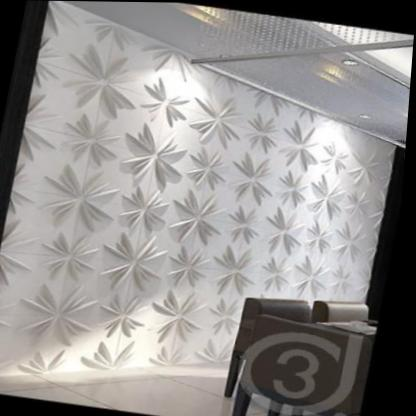Futech tiles: (0, 73, 278, 357)
